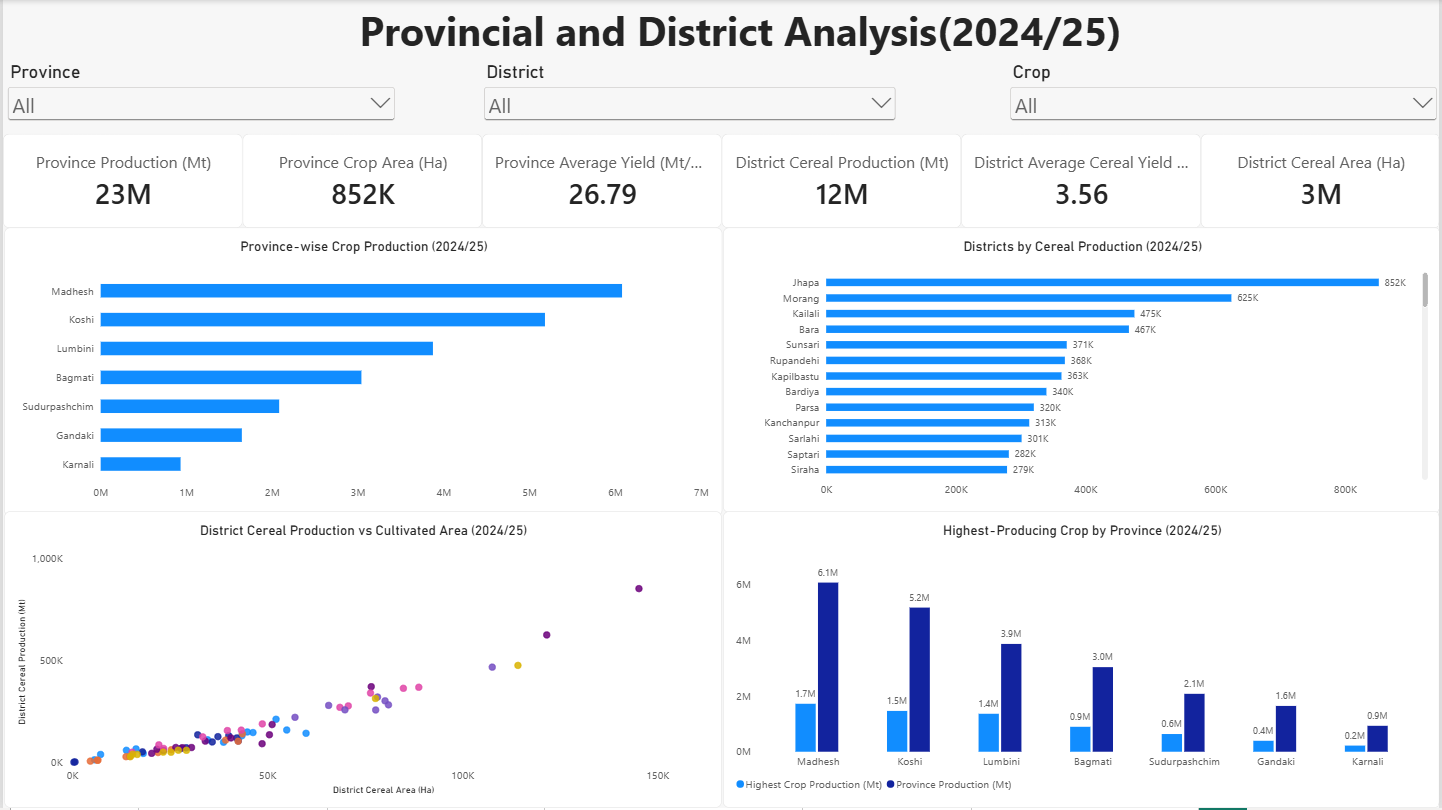

What the dashboard file says about the page in this screenshot:
{"tool":"powerbi","page":{"name":"Provincial and District Analysis","canvas":[1920,1080],"ordinal":3},"visuals":[{"type":"slicer","fields":{"Values":["Dim_Crop.Crop"]},"box":[1340.8,81.9,579.7,97.3],"z":0},{"type":"slicer","fields":{"Values":["Dim_Province.Province"]},"box":[2.2,81.9,526.6,97.3],"z":1000},{"type":"cardVisual","fields":{"Data":["_Measures.Province Production (Mt)","_Measures.Province Crop Area (Ha)","_Measures.Province Average Yield (Mt/Ha)","_Measures.District Cereal Production (Mt)","_Measures.District Average Cereal Yield (Mt/Ha)","_Measures.District Cereal Area (Ha)"]},"box":[0,179.2,1920.4,126.1],"z":2000},{"type":"clusteredBarChart","title":"Province-wise Crop Production (2024/25)","fields":{"Y":["_Measures.Province Production (Mt)"],"Category":["Agriculture_Production_By_Province.Province"]},"box":[1.8,304,959.1,385.5],"z":3000},{"type":"clusteredBarChart","title":"Districts by Cereal Production (2024/25)","fields":{"Y":["_Measures.District Cereal Production (Mt)"],"Category":["Cereal_Production_by_District_2024/25.District"]},"box":[962,304,959,381],"z":4000},{"type":"slicer","fields":{"Values":["Dim_District.District"]},"box":[637.2,81.9,559.8,97.3],"z":5000},{"type":"clusteredColumnChart","title":"Highest-Producing Crop by Province (2024/25)","fields":{"Category":["Agriculture_Production_By_Province.Province"],"Y":["_Measures.Highest Crop Production (Mt)","_Measures.Province Production (Mt)"]},"box":[962.4,683.7,958,396],"z":6000},{"type":"scatterChart","title":"District Cereal Production vs Cultivated Area (2024/25)","fields":{"X":["_Measures.District Cereal Area (Ha)"],"Y":["_Measures.District Cereal Production (Mt)"],"Category":["Cereal_Production_by_District_2024/25.District"],"Series":["Cereal_Production_by_District_2024/25.Province"]},"box":[2.2,683.7,958,396],"z":7000},{"type":"textbox","box":[431.2,2.6,1109.1,77.9],"z":8000}]}

Visuals, with their boxes in screenshot pixels (x1, y1, x2, y2), scaled from the page's 1920x1080 canvas onto the 1442x810 screenshot:
slicer - Dim_Crop.Crop: Rect(1007, 61, 1441, 134)
slicer - Dim_Province.Province: Rect(2, 61, 397, 134)
cardVisual - _Measures.Province Production (Mt) x _Measures.Province Crop Area (Ha): Rect(0, 134, 1441, 229)
"Province-wise Crop Production (2024/25)" clusteredBarChart: Rect(1, 228, 722, 517)
"Districts by Cereal Production (2024/25)" clusteredBarChart: Rect(723, 228, 1441, 514)
slicer - Dim_District.District: Rect(479, 61, 899, 134)
"Highest-Producing Crop by Province (2024/25)" clusteredColumnChart: Rect(723, 513, 1441, 809)
"District Cereal Production vs Cultivated Area (2024/25)" scatterChart: Rect(2, 513, 721, 809)
textbox: Rect(324, 2, 1157, 60)
